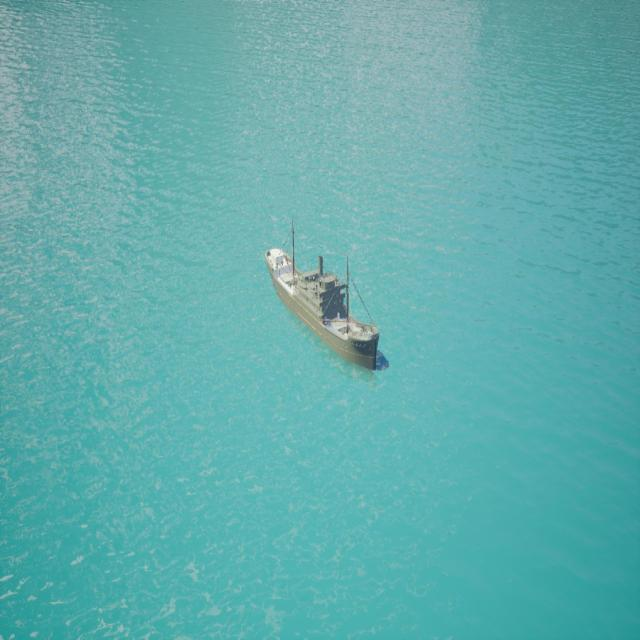fishing ship: (263, 233, 384, 377)
